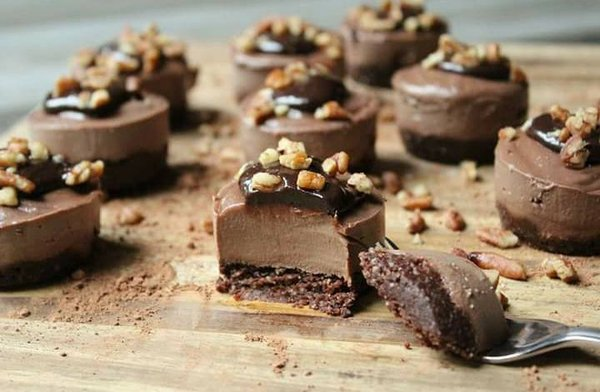sushi: (213, 138, 389, 316), (358, 245, 510, 365), (392, 36, 530, 166), (0, 134, 106, 291), (493, 101, 600, 253), (242, 65, 380, 170)
